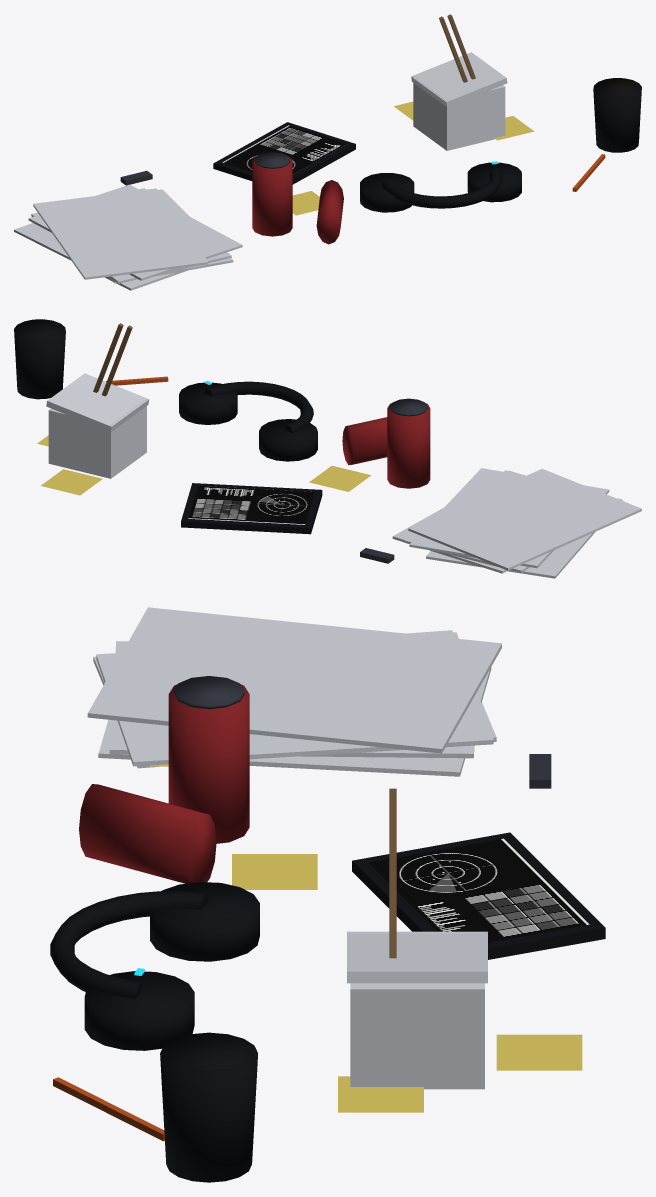
The model's file is Deco_DeskClutter.glb.
The picture shows the model from 3 angles, top to bottom: view 1: azimuth 30°, elevation 25°; view 2: azimuth 150°, elevation 25°; view 3: azimuth 270°, elevation 25°; orthographic projection. The views are drawn at different scales.
Visible parts, largest first — view 1: Deco_DeskClutter; view 2: Deco_DeskClutter; view 3: Deco_DeskClutter.
Boxes of the visible parts, x1,y1,x2,y2 form: Deco_DeskClutter: (14,14,641,290); Deco_DeskClutter: (14,319,641,578); Deco_DeskClutter: (50,607,605,1182).
Size of the model in its own units: 1.07 by 0.2274 by 0.453.
10 materials, 1 textured.
